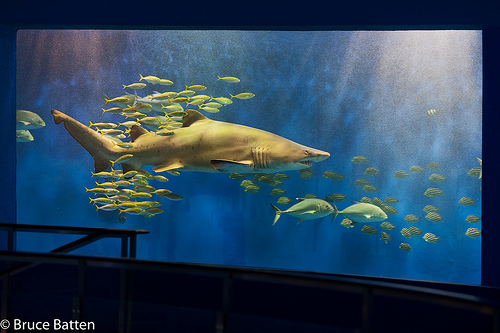shark: (39, 83, 338, 184)
